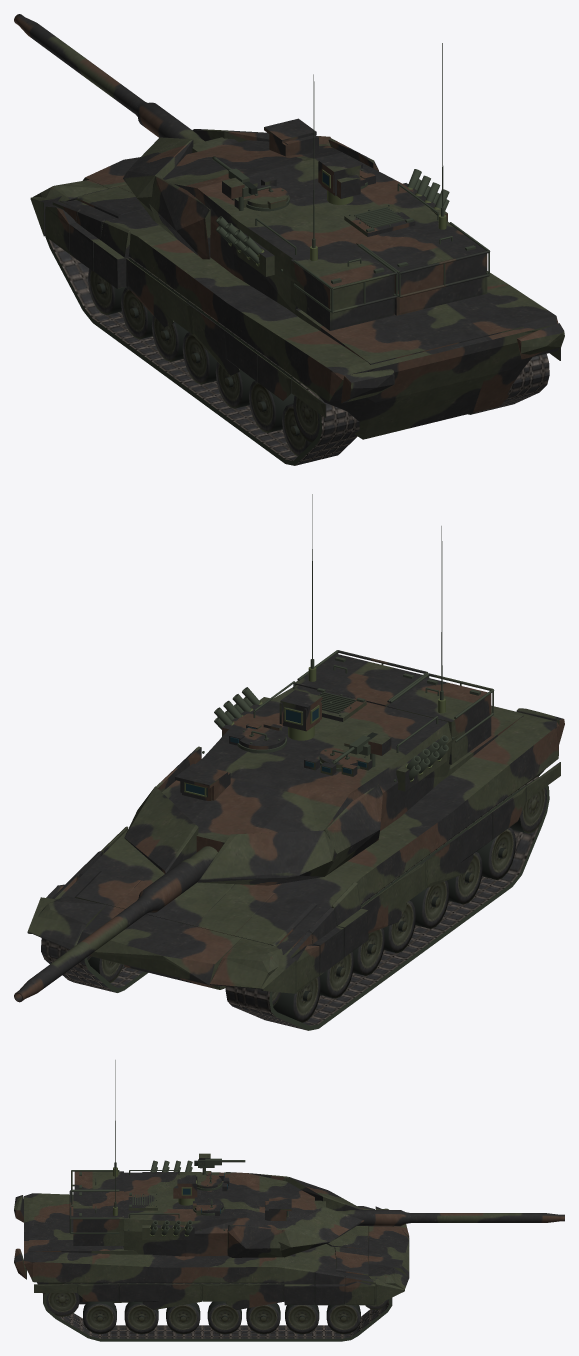
File: leopard2a7v.glb
The picture shows the model from 3 angles, top to bottom: view 1: azimuth 30°, elevation 25°; view 2: azimuth 150°, elevation 25°; view 3: azimuth 270°, elevation 25°; orthographic projection. The views are drawn at different scales.
Parts seen in each view (by area): view 1: Low_Hull_shell, Low_Turret_core, Low_Tracks, Low_Wheels, Low_Engine_deck, Low_Bustle_left, Low_Bustle_right, Low_Gun_barrel, Low_ex_armor_l_18, Low_ex_armor_l_17, Low_ex_armor_l_10, Low_ex_armor_l_12 (+17 smaller); view 2: Low_Turret_core, Low_Hull_shell, Low_Tracks, Low_Wheels, Low_ex_armor_body_01, Low_ex_armor_l_17, Low_Gun_barrel, Low_Bustle_right, Low_ex_armor_r_17, Low_Bustle_left, Low_ex_armor_l_18, Low_ex_armor_body_07 (+20 smaller); view 3: Low_Hull_shell, Low_Turret_core, Low_Wheels, Low_Tracks, Low_Bustle_left, Low_Engine_deck, Low_Gun_barrel, Low_ex_armor_r_17, Low_ex_armor_body_01, Low_ex_armor_r_18, Low_ex_armor_r_10, Low_ex_armor_r_12 (+18 smaller).
Boxes of the visible parts, x1,y1,x2,y2 form: Low_Hull_shell: (59,199,558,439); Low_Turret_core: (163,140,438,312); Low_Tracks: (45,236,549,465); Low_Wheels: (88,269,319,455); Low_Engine_deck: (289,295,523,364); Low_Bustle_left: (356,221,487,315); Low_Bustle_right: (290,244,394,330); Low_Gun_barrel: (14,14,204,144); Low_ex_armor_l_18: (149,176,210,259); Low_ex_armor_l_17: (123,137,193,220); Low_ex_armor_l_10: (126,258,173,327); Low_ex_armor_l_12: (191,306,239,375); Low_Turret_core: (162,685,458,834); Low_Hull_shell: (59,705,559,987); Low_Tracks: (41,776,549,1030); Low_Wheels: (87,788,546,1022); Low_ex_armor_body_01: (77,905,241,984); Low_ex_armor_l_17: (197,830,334,885); Low_Gun_barrel: (14,846,217,1002); Low_Bustle_right: (386,677,491,764); Low_ex_armor_r_17: (124,786,198,873); Low_Bustle_left: (295,653,422,706); Low_ex_armor_l_18: (323,784,382,875); Low_ex_armor_body_07: (233,893,316,946); Low_Hull_shell: (24,1193,374,1304); Low_Turret_core: (123,1172,314,1256); Low_Wheels: (46,1290,388,1334); Low_Tracks: (43,1283,392,1341); Low_Bustle_left: (73,1191,123,1245); Low_Engine_deck: (29,1204,146,1254); Low_Gun_barrel: (337,1210,564,1226); Low_ex_armor_r_17: (278,1206,363,1257); Low_ex_armor_body_01: (368,1226,409,1277); Low_ex_armor_r_18: (227,1225,282,1257); Low_ex_armor_r_10: (225,1284,284,1309); Low_ex_armor_r_12: (142,1284,201,1309).
Bounding box in the file's own units: 3.75 × 5.11 × 11.22.
Materials: 4 (4 with a texture image).
